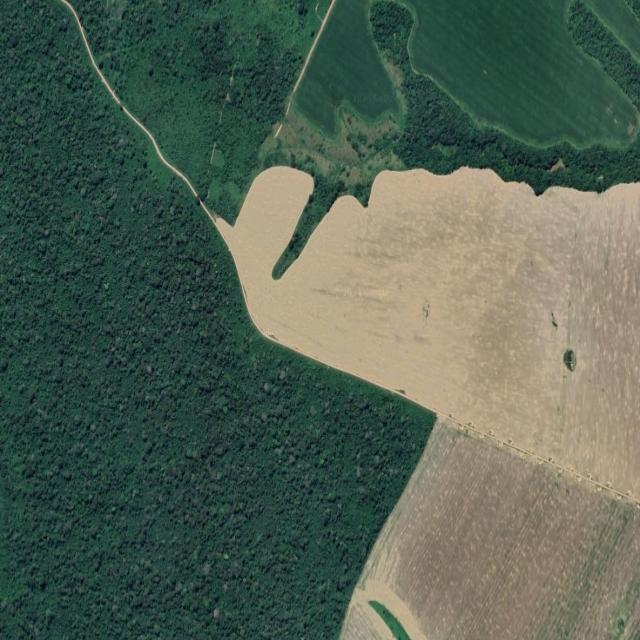noVegetation: (216, 167, 640, 640)
vegetation: (0, 0, 434, 636), (80, 0, 640, 276), (74, 0, 328, 221)
